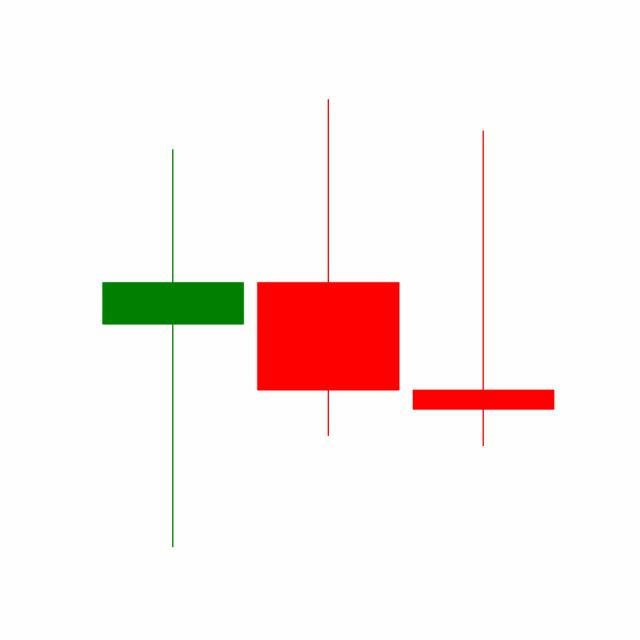Hammer: (405, 126, 561, 449)
